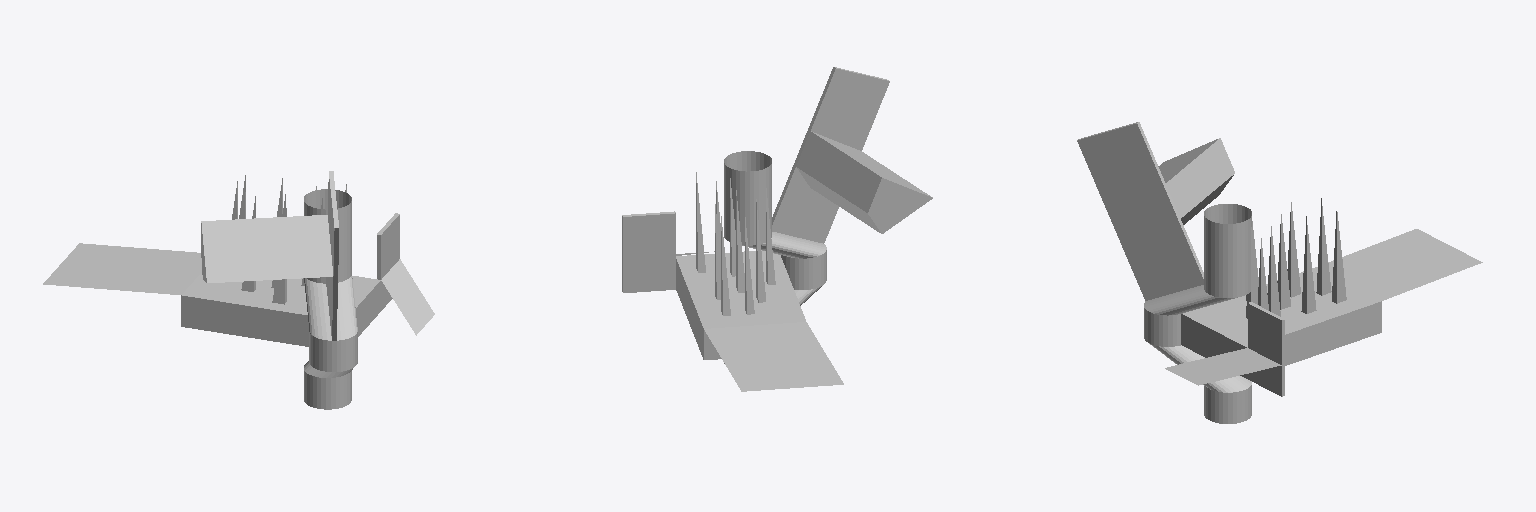
The model's file is lll.obj.
3 views of the same model, side by side, from view 1: azimuth 30°, elevation 25°; view 2: azimuth 150°, elevation 25°; view 3: azimuth 270°, elevation 25° (orthographic).
Parts seen in each view (by area): view 1: Circle; view 2: Circle; view 3: Circle.
Part boxes in pixels (bbox=[...]): Circle: bbox=[43, 171, 434, 409]; Circle: bbox=[622, 67, 932, 391]; Circle: bbox=[1077, 122, 1482, 423].
Size of the model in its own units: 13.77 by 12.3 by 16.7.